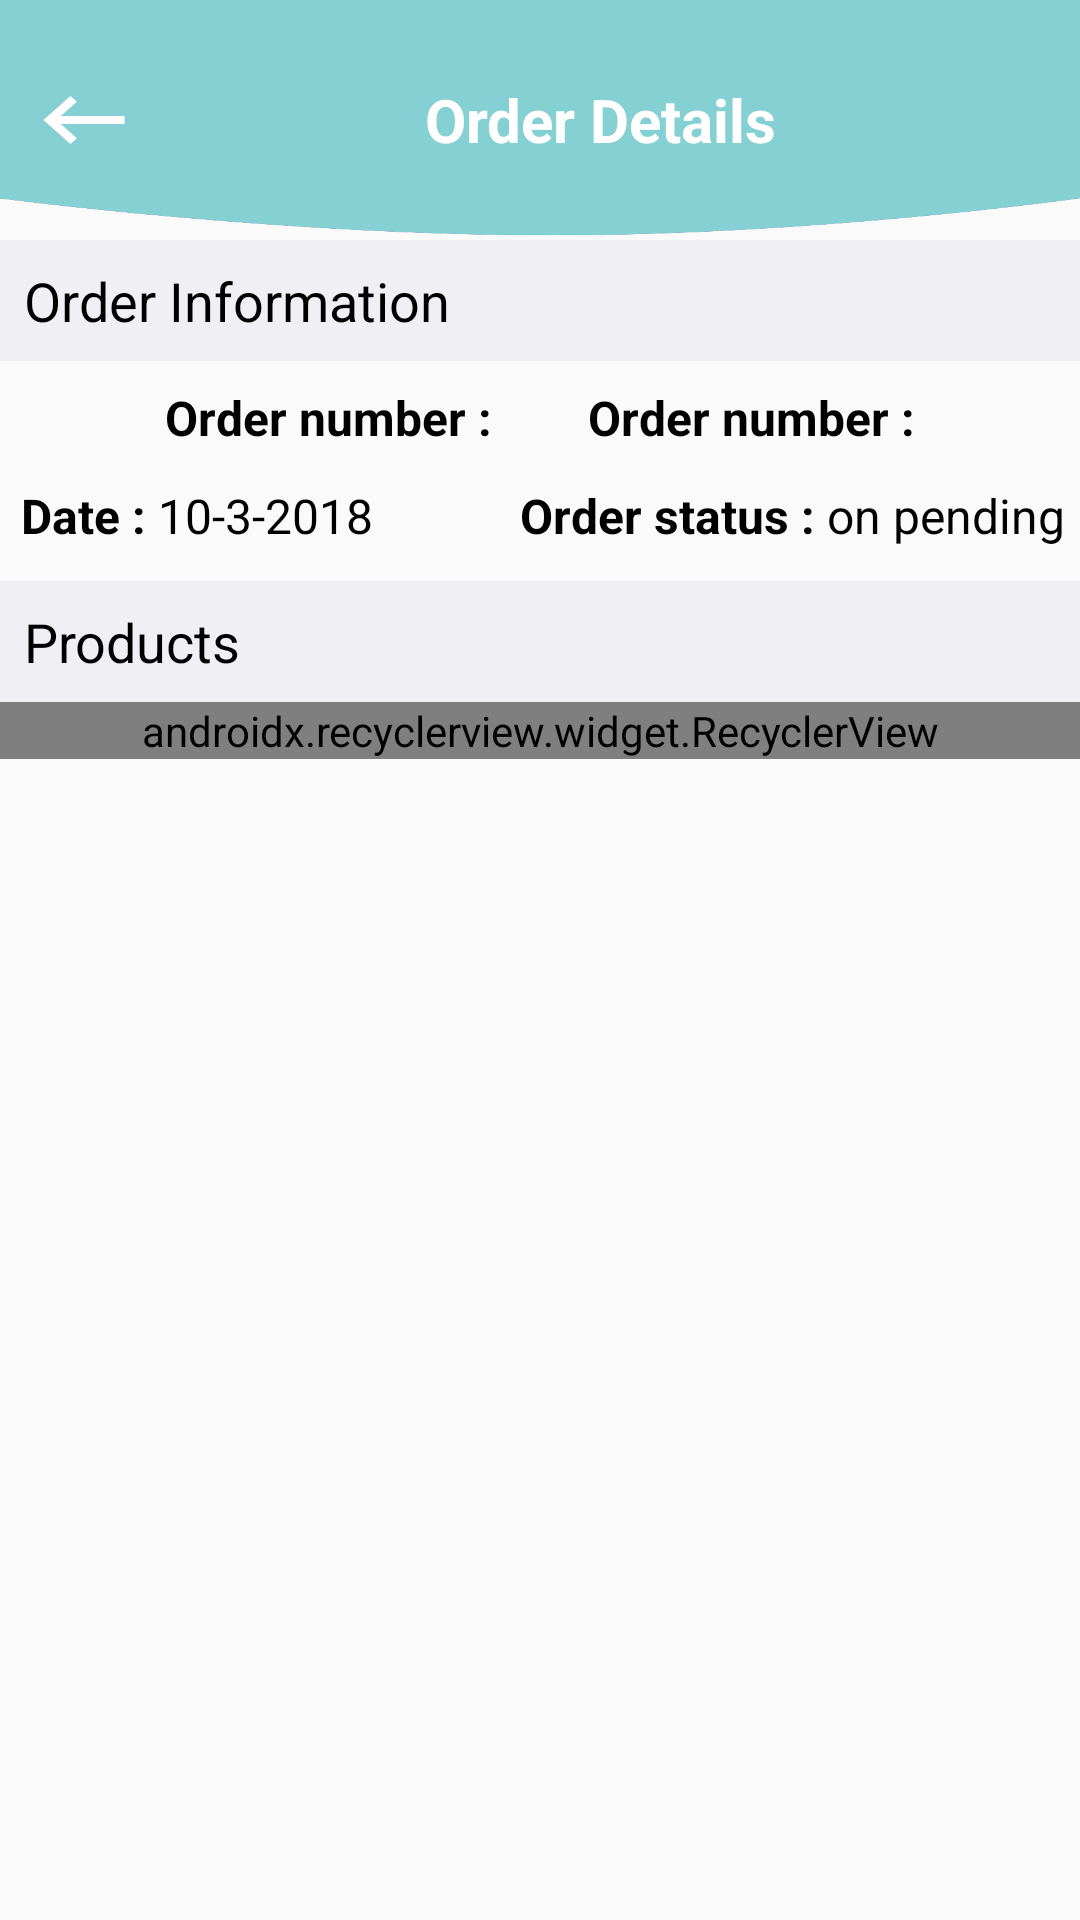

Icons on this 1080*1920 Android screen, each with the point to tap as (x,y):
arrow: (84,120)
